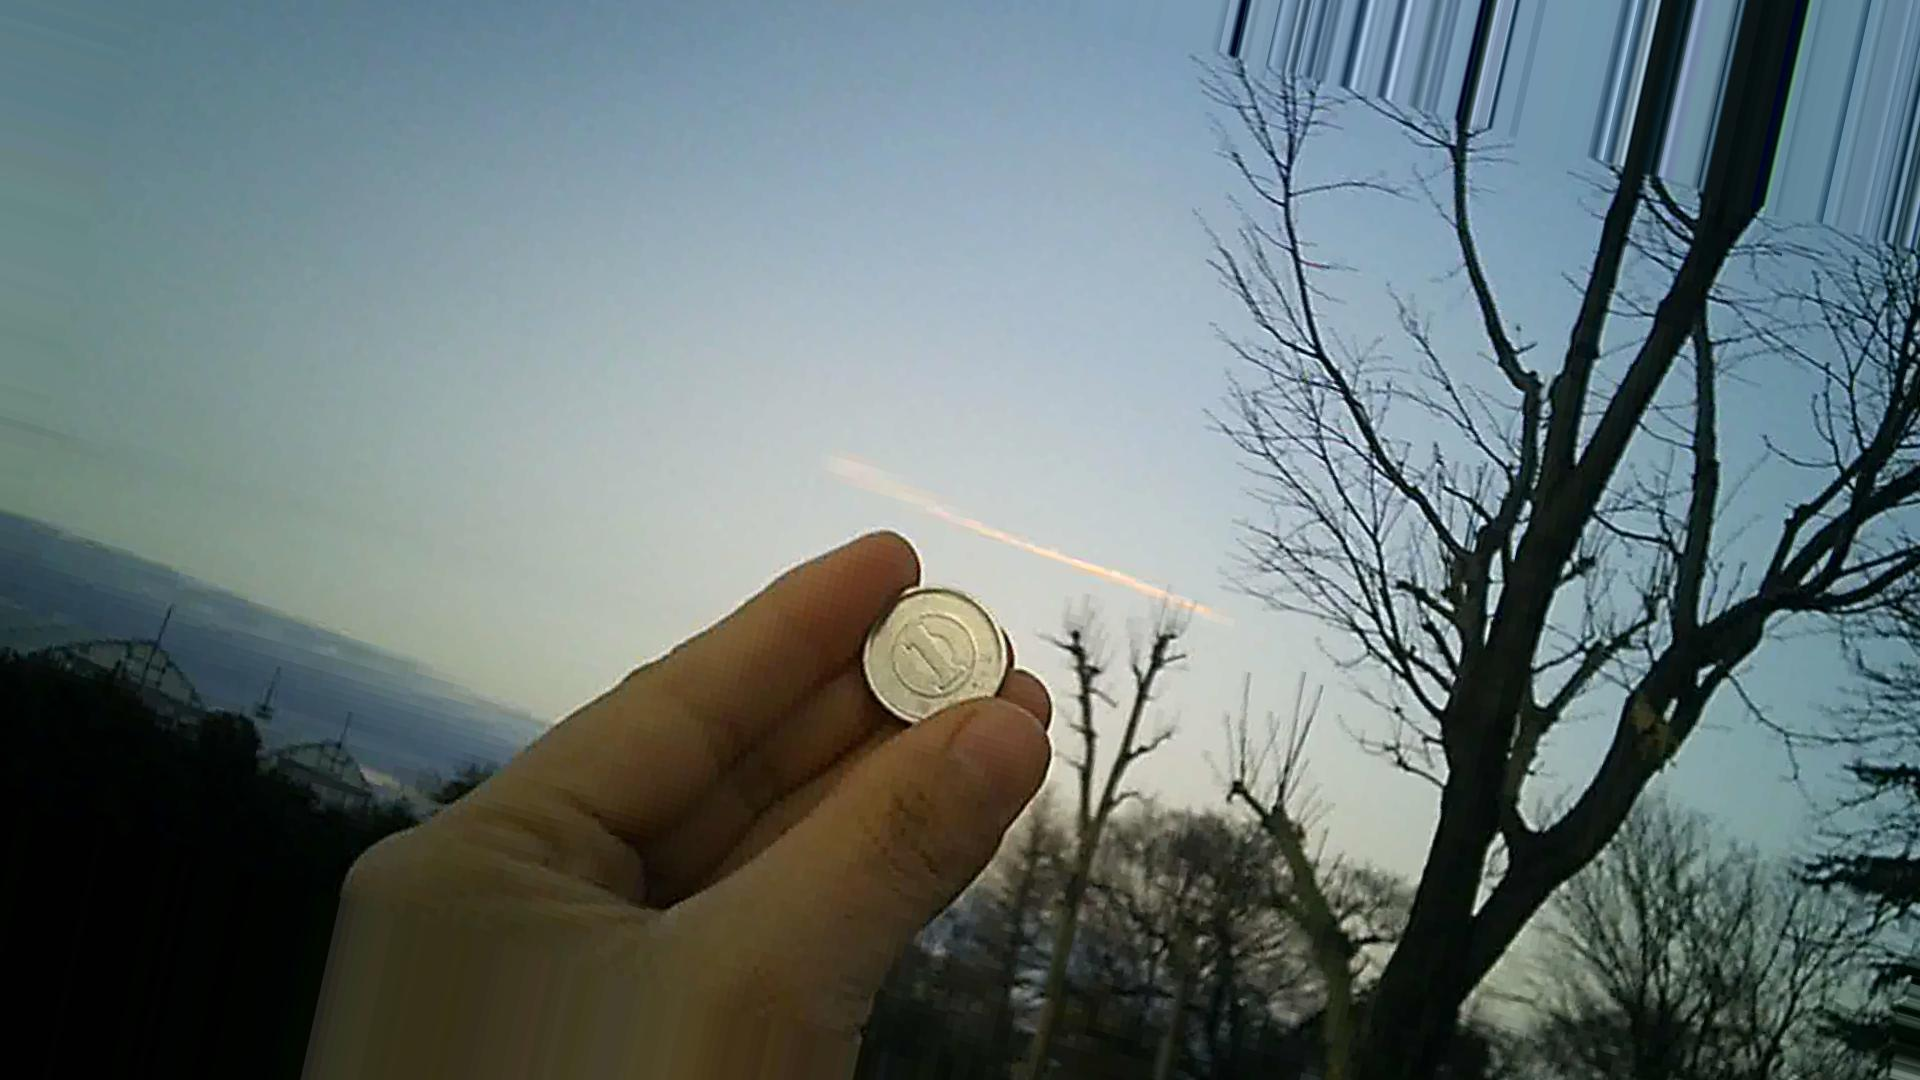1 Yen: (847, 576, 1023, 731)
